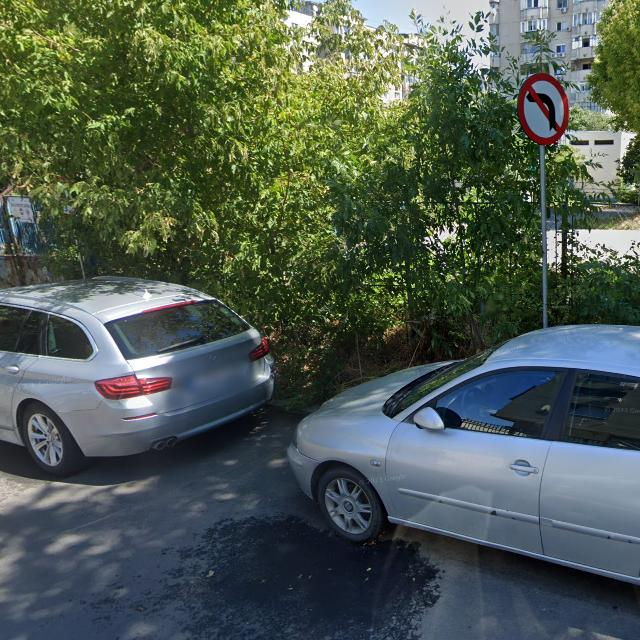forb_left: (517, 72, 570, 144)
